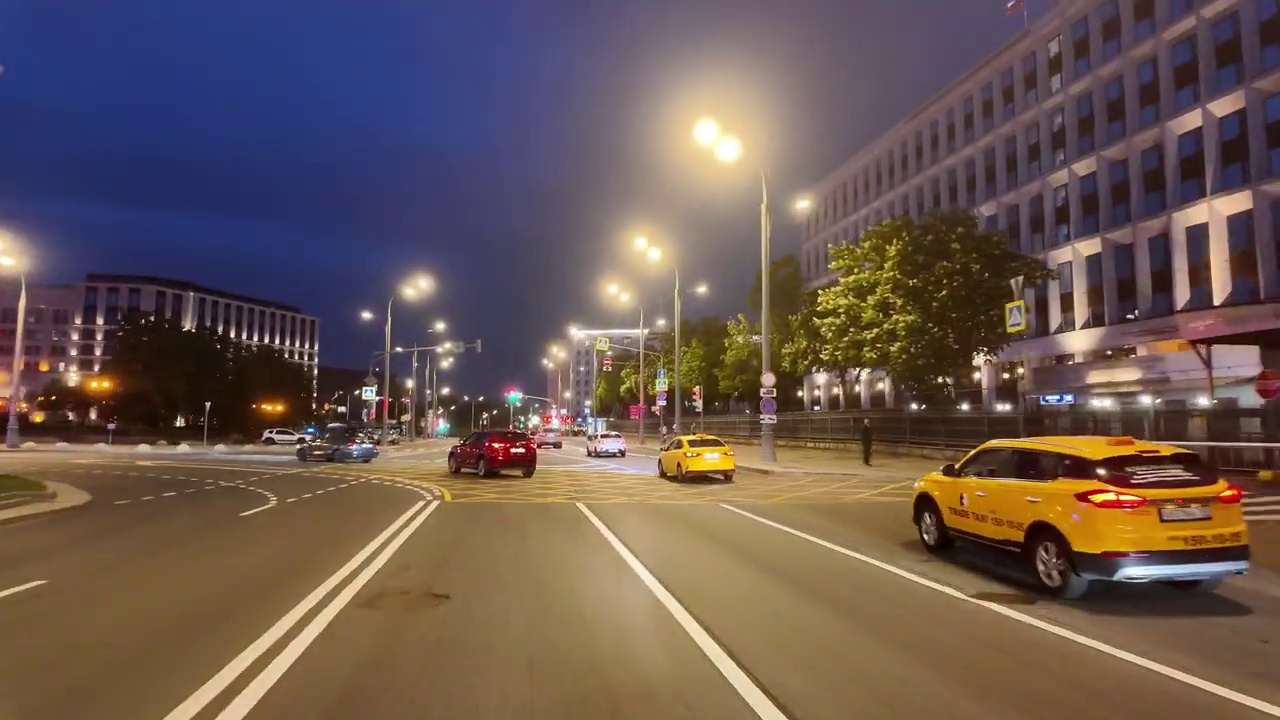acesa: (685, 112, 747, 170), (627, 230, 669, 270), (601, 278, 635, 310), (400, 271, 434, 302), (0, 234, 20, 274), (787, 192, 816, 219), (544, 342, 569, 368), (688, 279, 712, 301), (356, 306, 377, 327)
